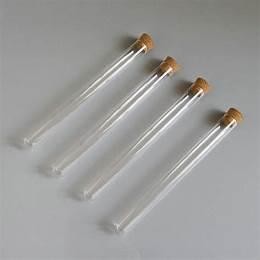Test tube: (10, 21, 232, 226)
